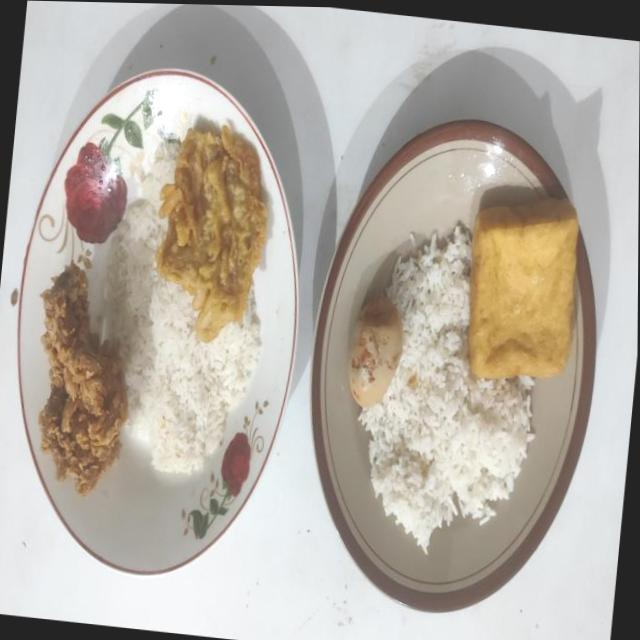nasi_putih: (358, 225, 533, 552), (103, 148, 261, 474)
tahu_goreng: (468, 198, 578, 378)
